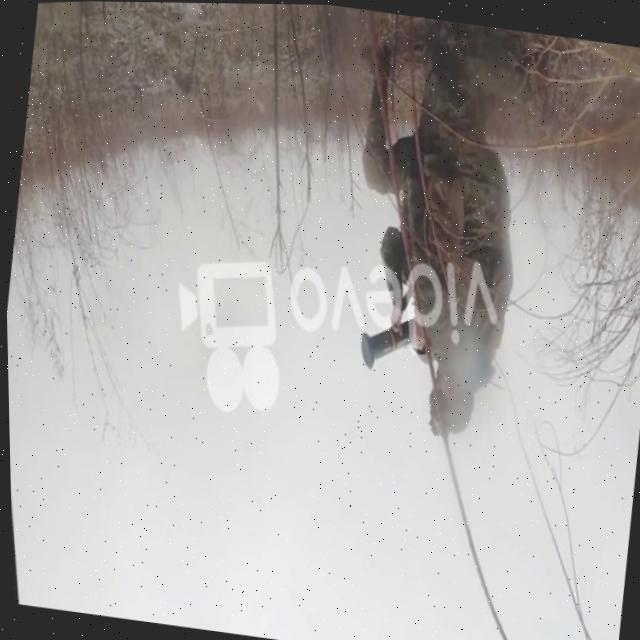rocket: (350, 306, 427, 378)
